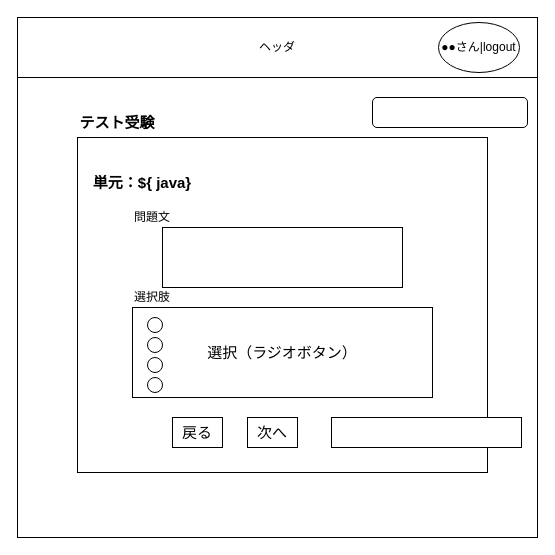
Some shapes in this 555 by 555 pixel diagram are drawn without their labels. Here are the shapes that lost their labels. From the top down, the centre of each, then its label:
At pixel 450 112: "テスト残り時間 00：00".
At pixel 282 257: "問題".
At pixel 426 432: "終了する （最後の問題の時に表示）".
